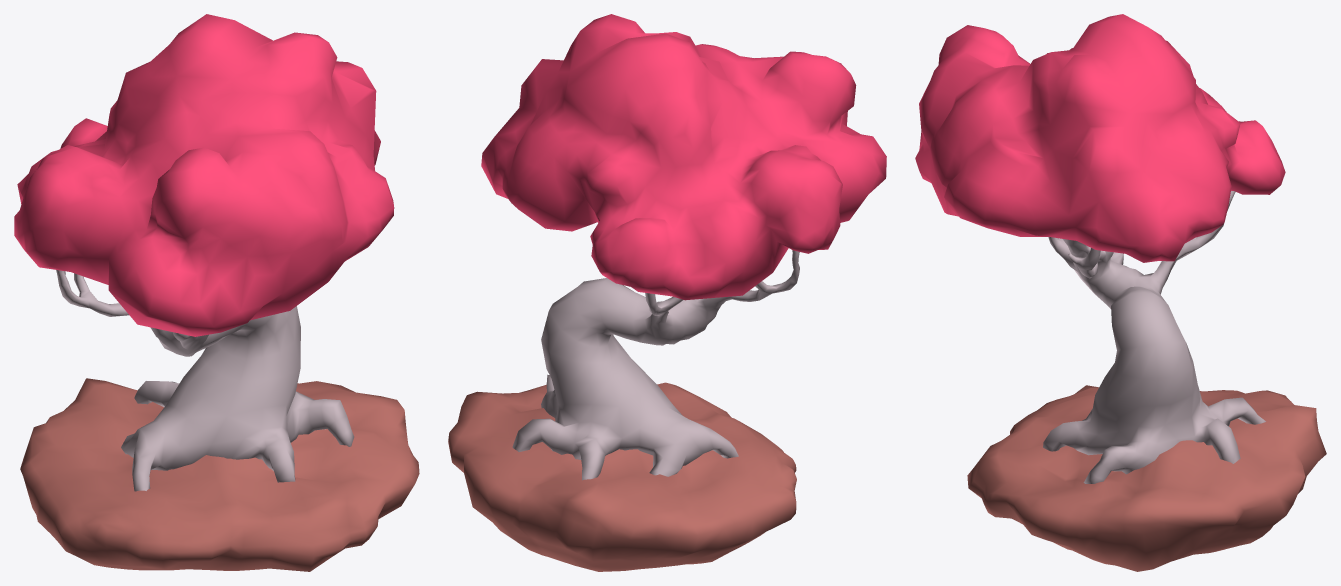
Rendered from Big_Tree.fbx.
3 renders of one model, left to right at view 1: azimuth 30°, elevation 25°; view 2: azimuth 150°, elevation 25°; view 3: azimuth 270°, elevation 25°, orthographic. The views are drawn at different scales.
Visible parts, largest first — view 1: Big_Tree; view 2: Big_Tree; view 3: Big_Tree.
Part boxes in pixels (<box>): Big_Tree: <box>14,14,419,571</box>; Big_Tree: <box>448,14,886,571</box>; Big_Tree: <box>915,14,1326,571</box>.
Bounding box in the file's own units: 4191 × 5540 × 4138.
